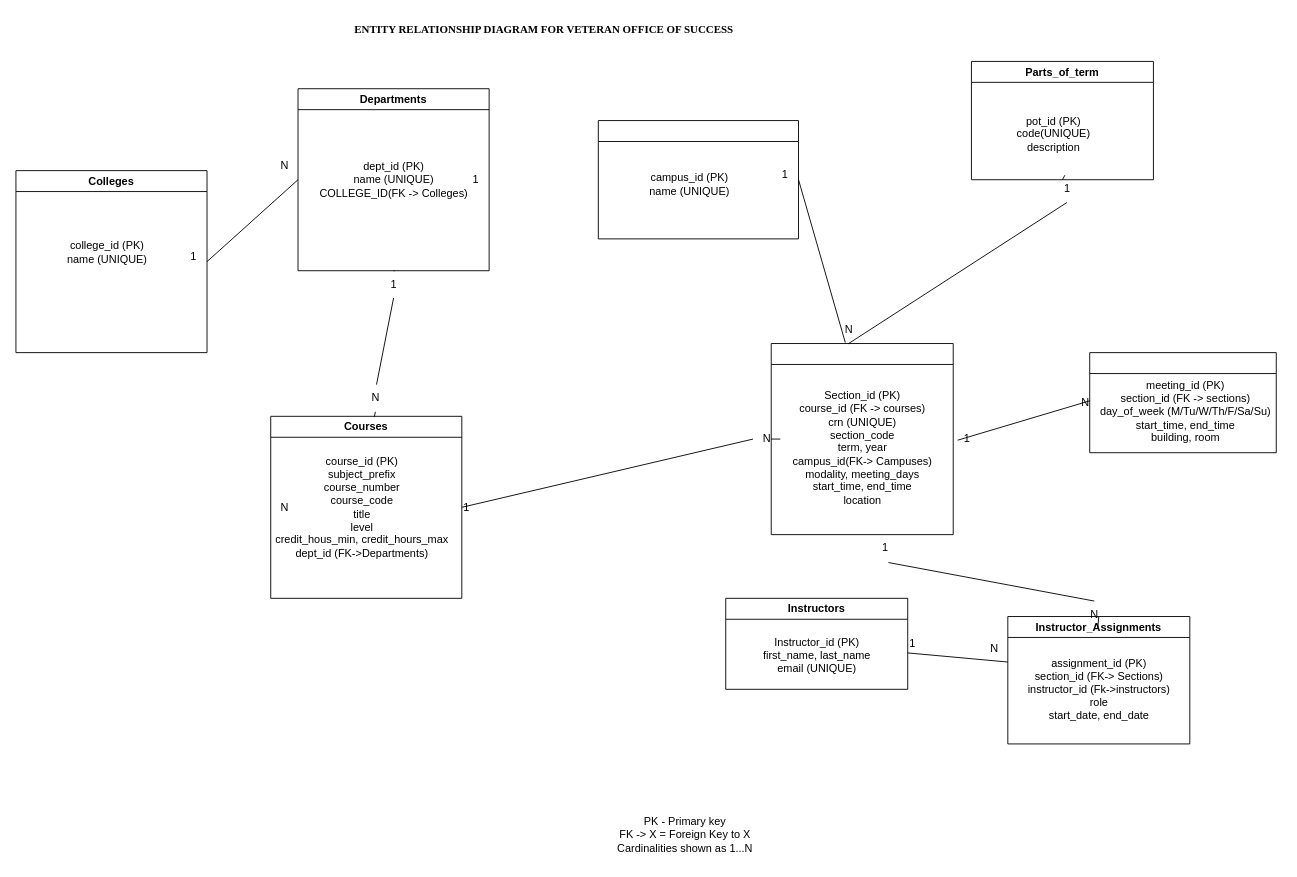
The diagram is 1297 pixels wide and 877 high, and some of its shapes have lost their labels. The shapes that lost their labels are listed below. From the top down, each one's box as (x1, y1, x2, y2) in pixels, then its label:
(597, 120, 799, 239): Campuses
(1089, 352, 1276, 453): Meetings
(770, 343, 953, 535): Sections
